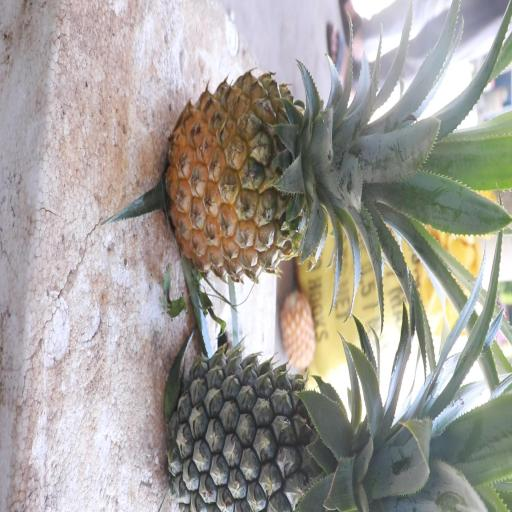Pineapple - v8 v1: (160, 48, 444, 283)
